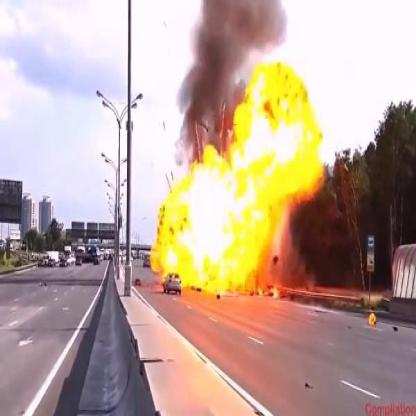fire: (147, 56, 328, 298), (367, 311, 377, 327)
